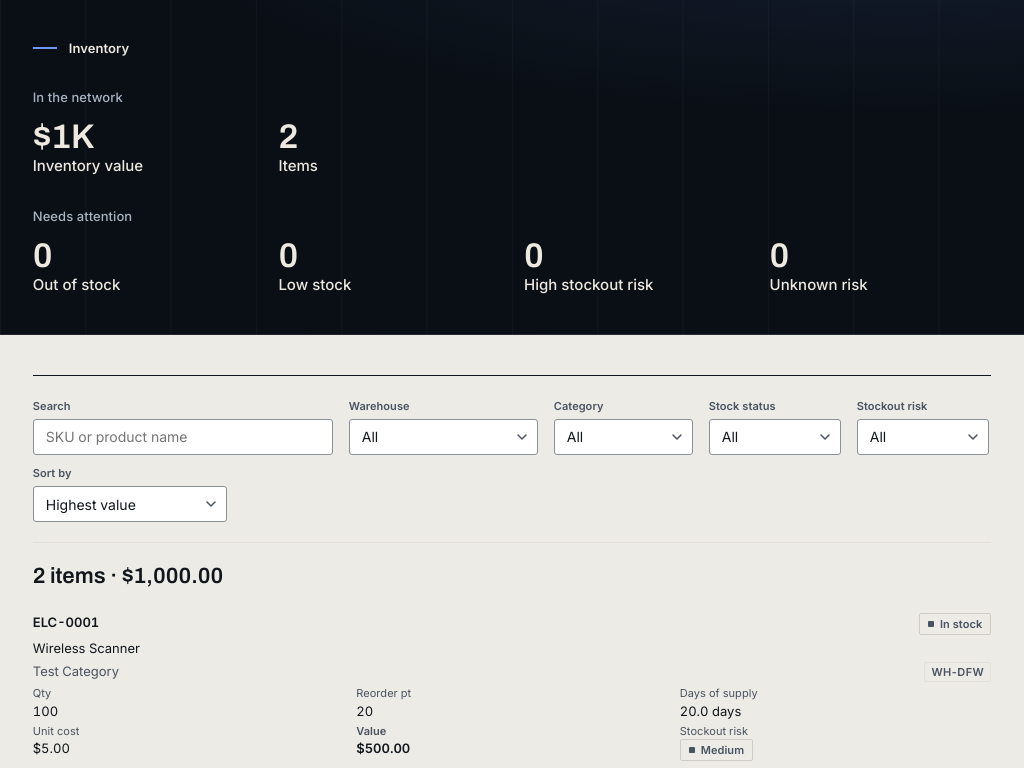
InventoryPage › filters by search text (SKU or product name)
Type "scanner" into the search field labelled "Search" at (183, 437), box [33,419,333,455]
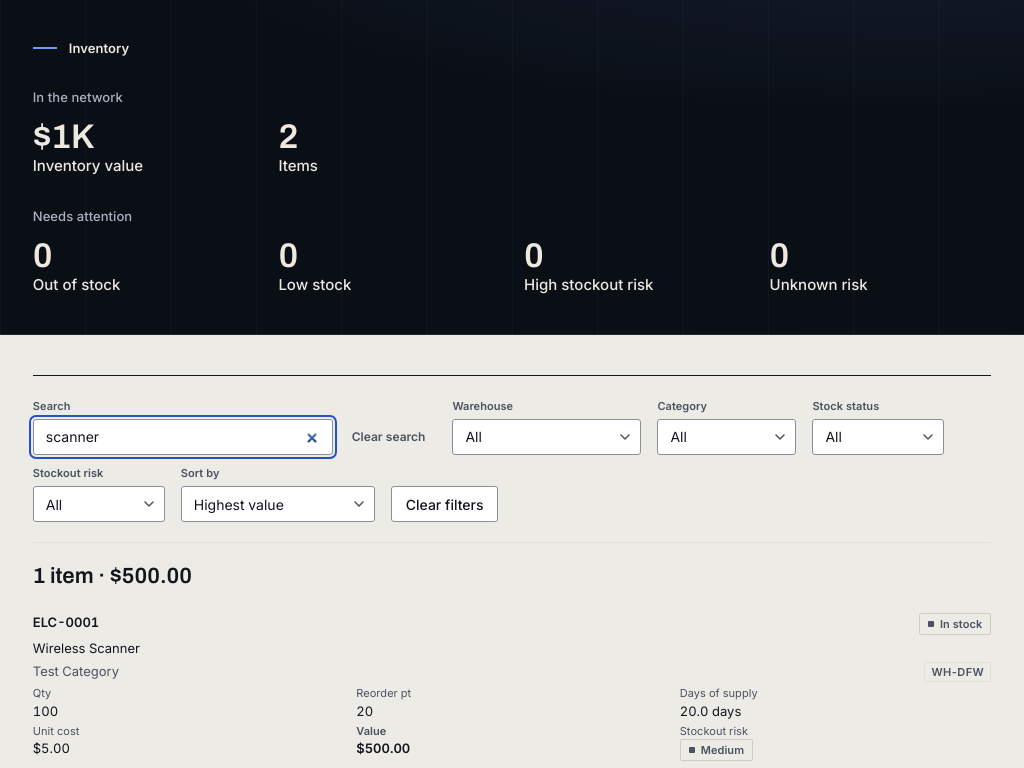
Expected: the text "ELC-0001" is shown, [33,614,99,630]
Expected: the text "1 item · $500.00" is shown, [33,564,192,588]
